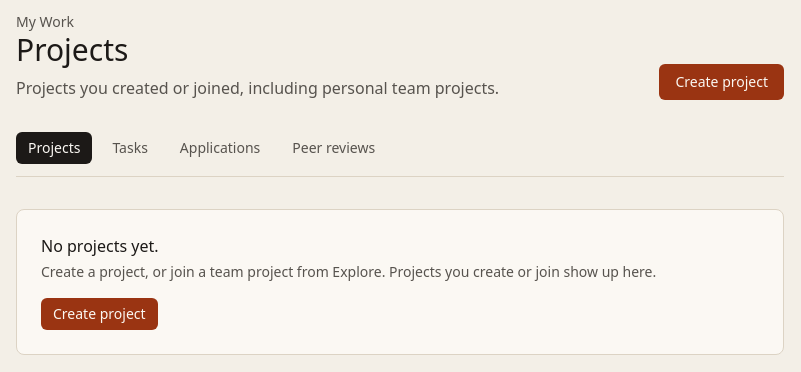
Scenario: MyWorkPage › replaces the peer reviews stub with empty or authored slots
The width and height of the screenshot is (801, 372).
Click the button "Peer reviews" at (334, 148), box [280,132,387,164]
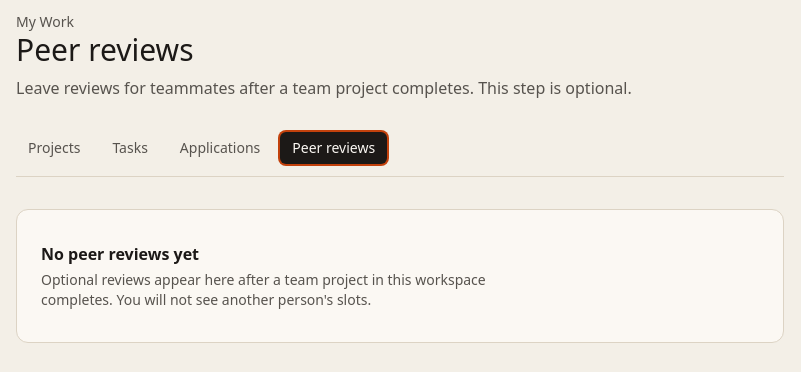
Expected: the heading "No peer reviews yet" is shown, [41,243,199,265]
Expected: the text "Leave reviews for teammates after a team project completes. This step is optional." is shown, [16,77,632,99]
Click the button "Applications" at (220, 148), box [168,132,272,164]
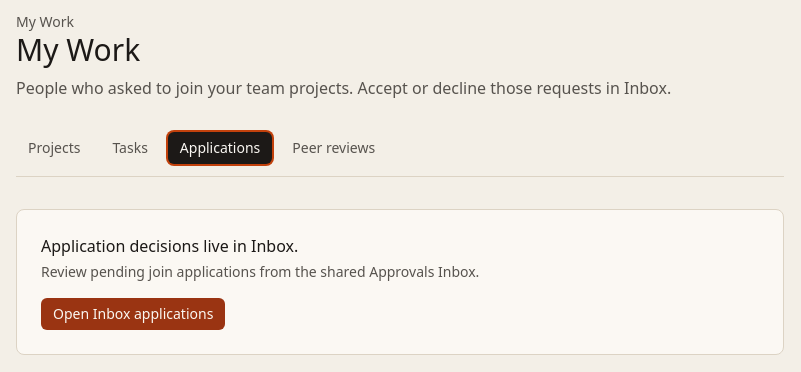
Expected: the text "People who asked to join your team projects. Accept or decline those requests in Inbox." is shown, [16,77,671,99]
